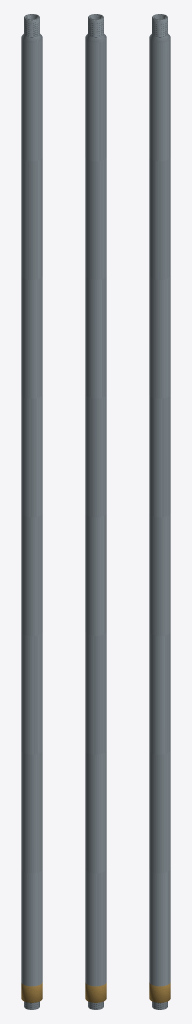
Rendered from core-barrel.glb.
The picture shows the model from 3 angles, left to right: view 1: azimuth 30°, elevation 25°; view 2: azimuth 150°, elevation 25°; view 3: azimuth 330°, elevation 25°; orthographic projection.
Visible parts, largest first — view 1: tool-housing (×2), core-catcher, uphole-connection; view 2: tool-housing (×2), core-catcher, uphole-connection; view 3: tool-housing (×2), core-catcher, uphole-connection.
Boxes of the visible parts, box(x1,y1,x2,y2) form: tool-housing (×2): box(21, 14, 42, 1009); core-catcher: box(21, 982, 42, 1002); uphole-connection: box(24, 14, 39, 36); tool-housing (×2): box(85, 14, 106, 1009); core-catcher: box(85, 982, 106, 1002); uphole-connection: box(88, 14, 103, 36); tool-housing (×2): box(149, 14, 170, 1009); core-catcher: box(149, 982, 170, 1002); uphole-connection: box(152, 14, 167, 36).
Size of the model in its own units: 0.117 by 6 by 0.117.
Materials: 3 (3 with a texture image).
